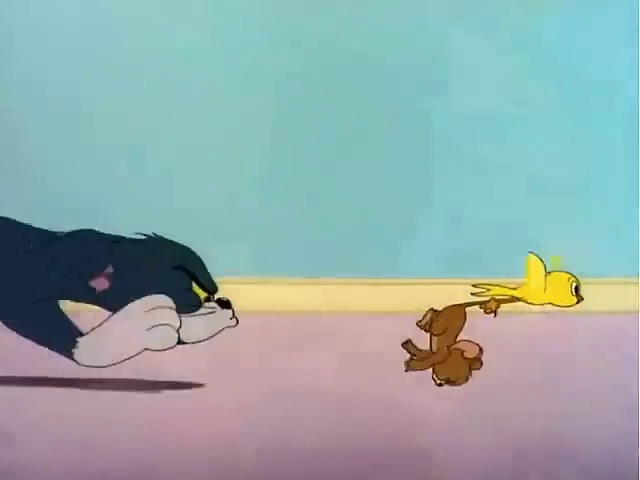jerry: (379, 272, 524, 407)
